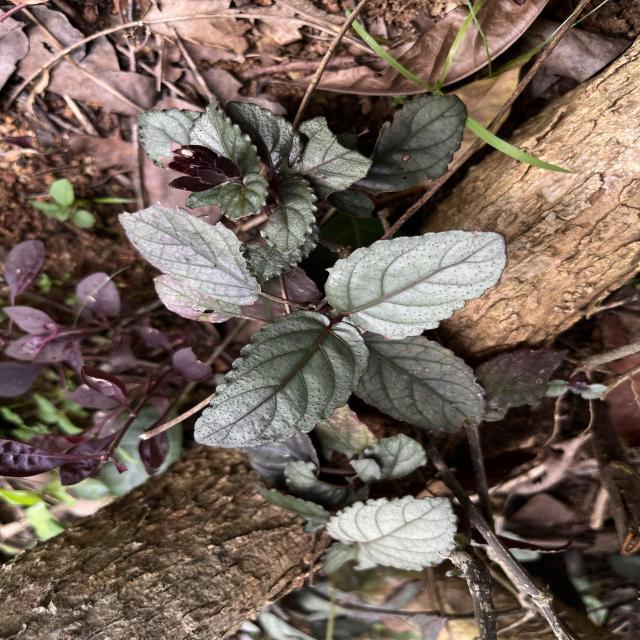Hemigraphis colorata: (191, 306, 373, 451), (323, 226, 509, 344), (115, 199, 263, 310), (352, 331, 491, 436), (322, 491, 461, 574)
